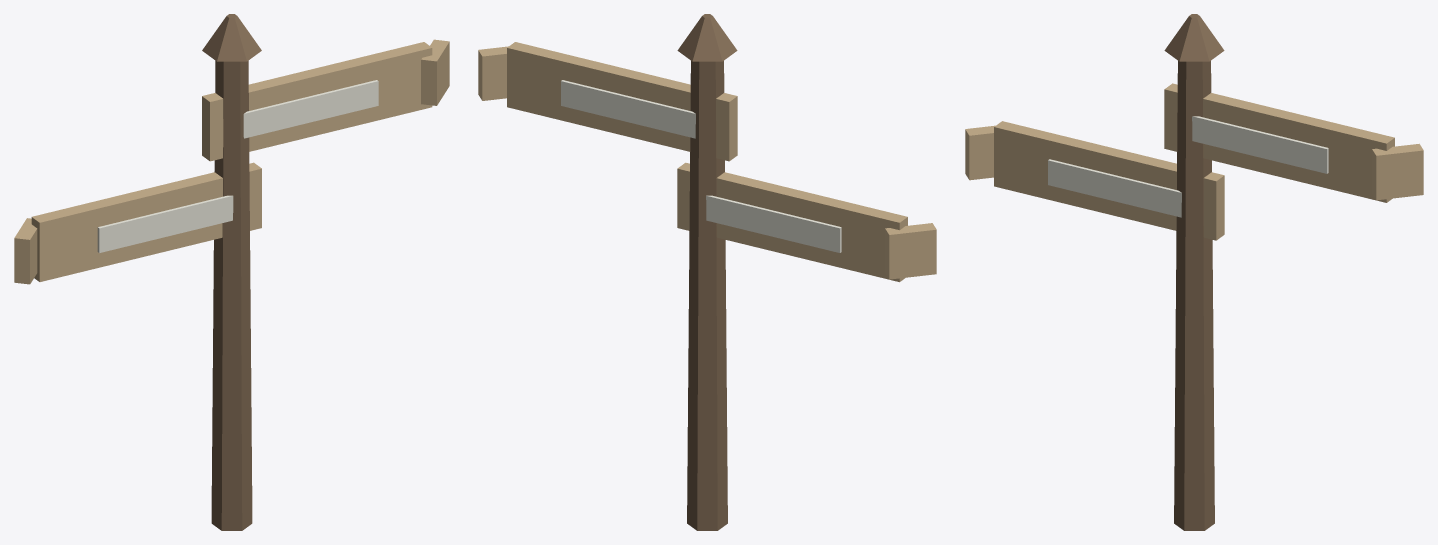
Rendered from signpost.glb.
The picture shows the model from 3 angles, left to right: view 1: azimuth 30°, elevation 25°; view 2: azimuth 150°, elevation 25°; view 3: azimuth 330°, elevation 25°; orthographic projection.
Parts seen in each view (by area): view 1: signpost; view 2: signpost; view 3: signpost.
Part boxes in pixels (x1,y1,x2,y2): signpost: (14,14,449,530); signpost: (478,14,936,530); signpost: (965,14,1423,530).
Size of the model in its own units: 1.89 by 2.05 by 0.22.
